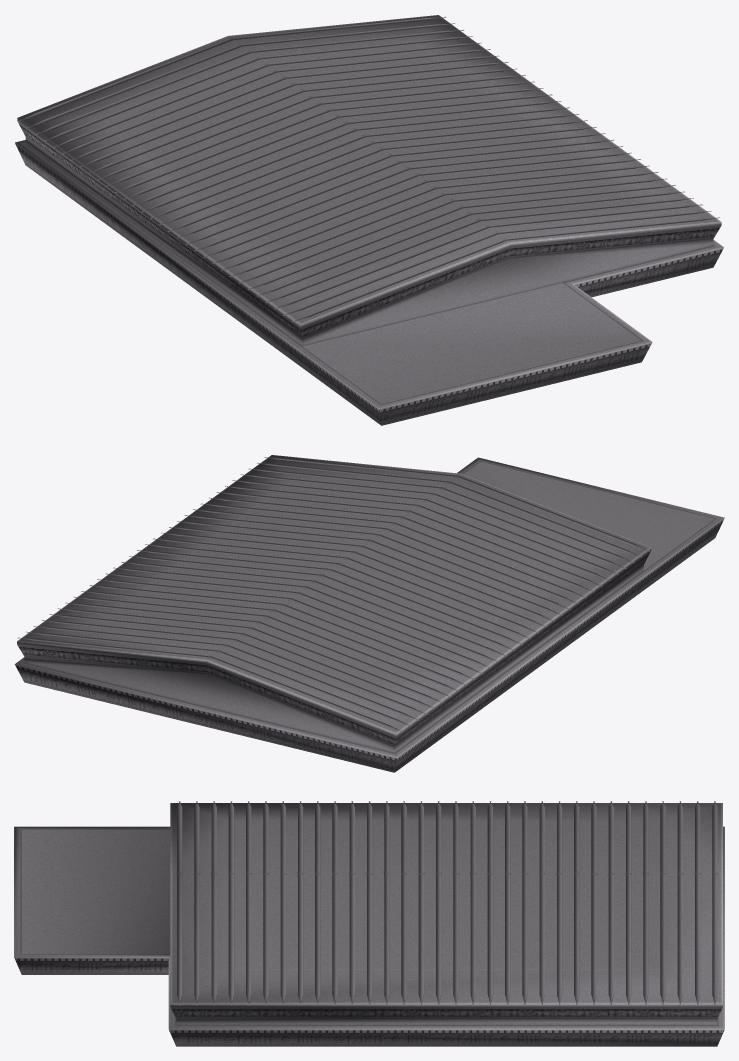
File: paganroof.obj
3 renders of one model, top to bottom at view 1: azimuth 30°, elevation 25°; view 2: azimuth 150°, elevation 25°; view 3: azimuth 270°, elevation 25°, orthographic. The views are drawn at different scales.
Parts seen in each view (by area): view 1: paganroof; view 2: paganroof; view 3: paganroof.
Part boxes in pixels (x1,y1,x2,y2): paganroof: (15,15,723,425); paganroof: (14,455,724,772); paganroof: (14,801,724,1046).
Bounding box in the file's own units: 500 × 86 × 736.
